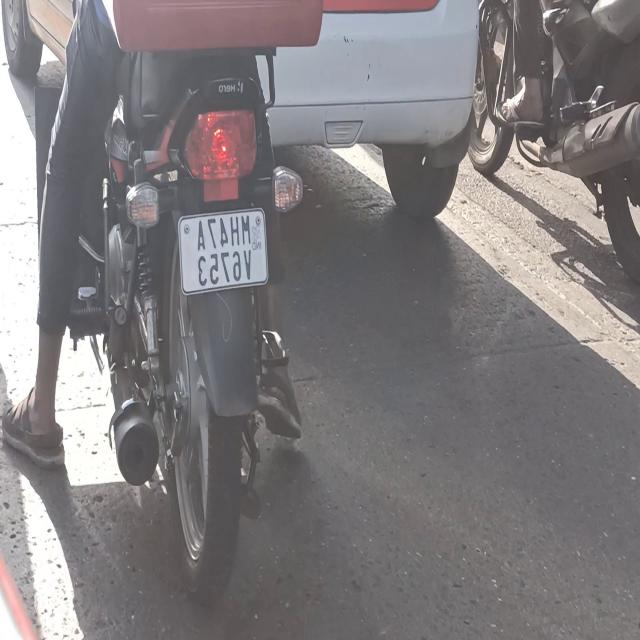license_plate: (172, 197, 271, 305)
